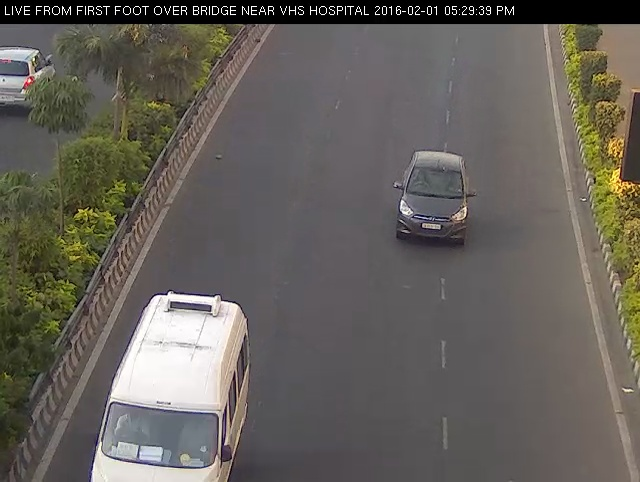Bus: (89, 277, 255, 482)
Car: (388, 140, 483, 266)
